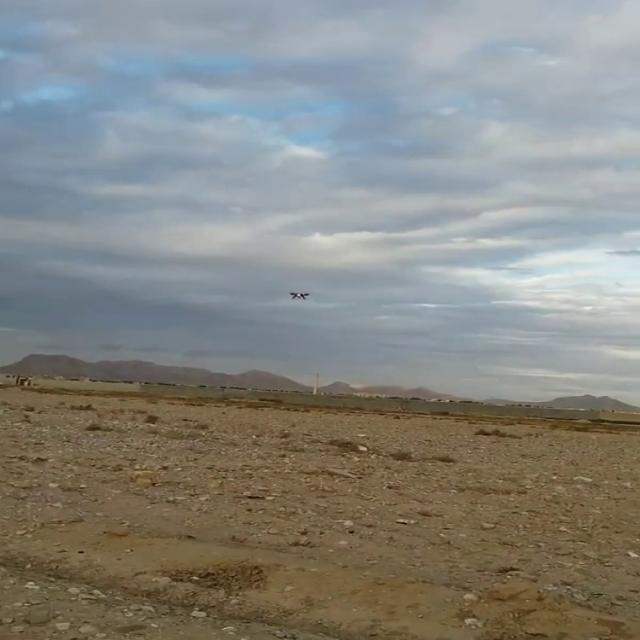drone: (286, 287, 313, 304)
